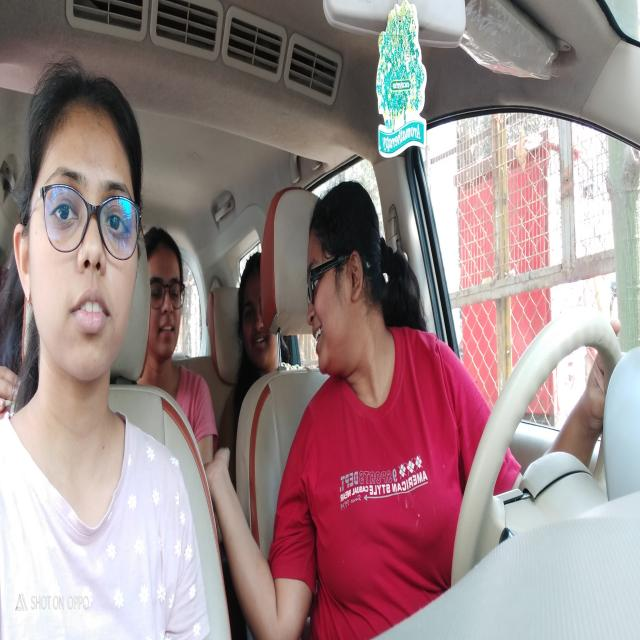LeftRight: (300, 180, 388, 386)
person: (10, 64, 141, 402), (142, 215, 188, 354), (237, 248, 282, 370)
talking: (312, 319, 328, 355)
